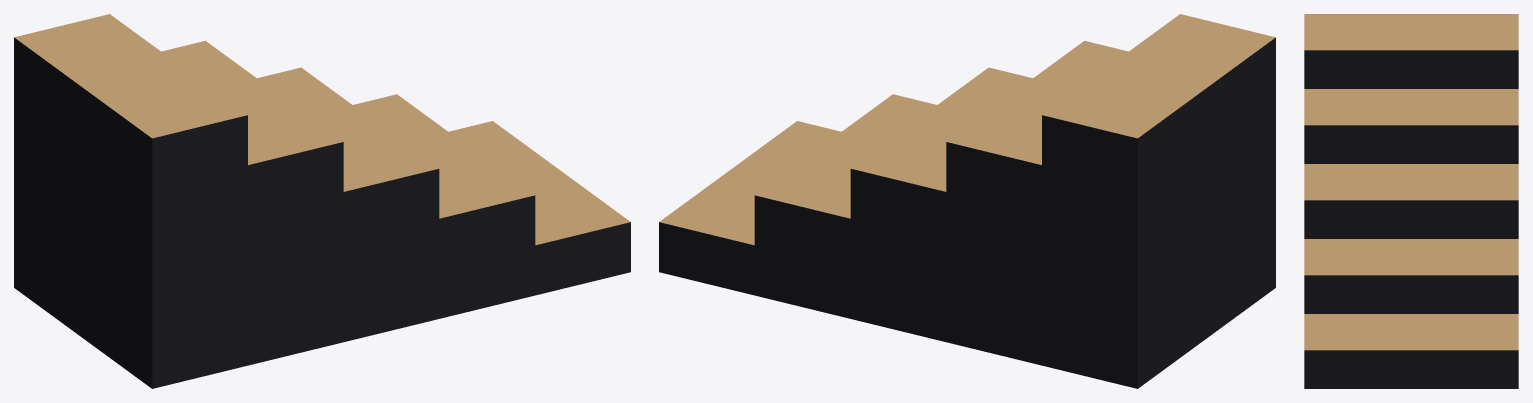
Rendered from Stairs_Half.fbx.
The picture shows the model from 3 angles, left to right: view 1: azimuth 30°, elevation 25°; view 2: azimuth 150°, elevation 25°; view 3: azimuth 270°, elevation 25°; orthographic projection. The views are drawn at different scales.
Visible parts, largest first — view 1: Stairs_Half; view 2: Stairs_Half; view 3: Stairs_Half.
Part boxes in pixels (left/top/right/bottom): Stairs_Half: left=14, top=14, right=630, bottom=388; Stairs_Half: left=659, top=14, right=1275, bottom=388; Stairs_Half: left=1304, top=14, right=1518, bottom=388.
Size of the model in its own units: 10 by 5 by 5.
